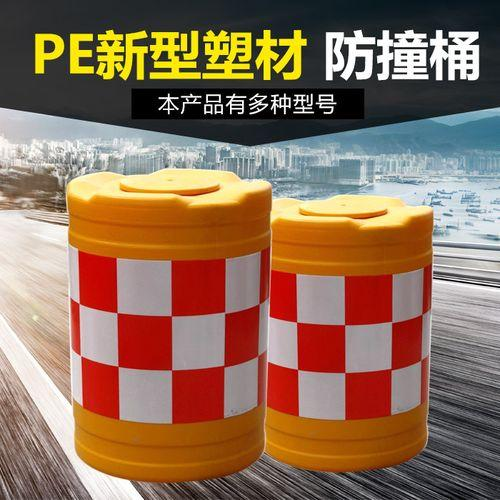sign: (56, 163, 273, 476), (265, 177, 442, 478)
